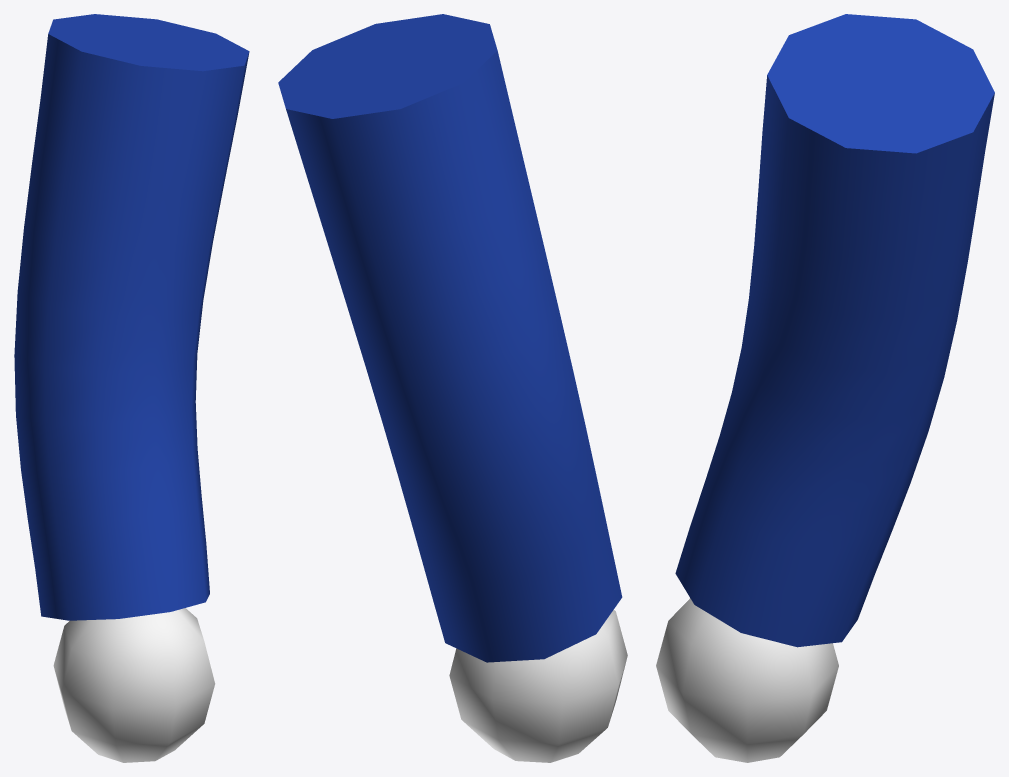
File: gnome_arm_r.obj
3 views of the same model, side by side, from view 1: azimuth 30°, elevation 25°; view 2: azimuth 150°, elevation 25°; view 3: azimuth 270°, elevation 25° (orthographic). The views are drawn at different scales.
Parts seen in each view (by area): view 1: part0, part1; view 2: part0, part1; view 3: part0, part1.
Boxes of the visible parts, bbox=[...] form: part0: bbox=[14, 14, 249, 620]; part1: bbox=[53, 608, 215, 762]; part0: bbox=[278, 14, 622, 662]; part1: bbox=[449, 610, 627, 762]; part0: bbox=[675, 14, 994, 647]; part1: bbox=[656, 598, 838, 762].
Size of the model in its own units: 0.0771 by 0.2133 by 0.0889.
